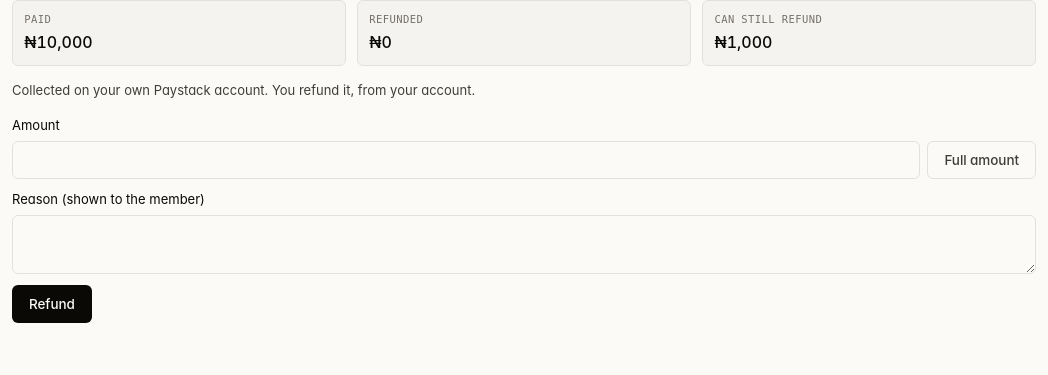
Test: ChargeRefundPanel › never sends more than is left
This screenshot has width=1048, height=375.
Type "5000" into the field named "Refund amount".
click(466, 160); type("5000")  # box 12,141 -> 920,179
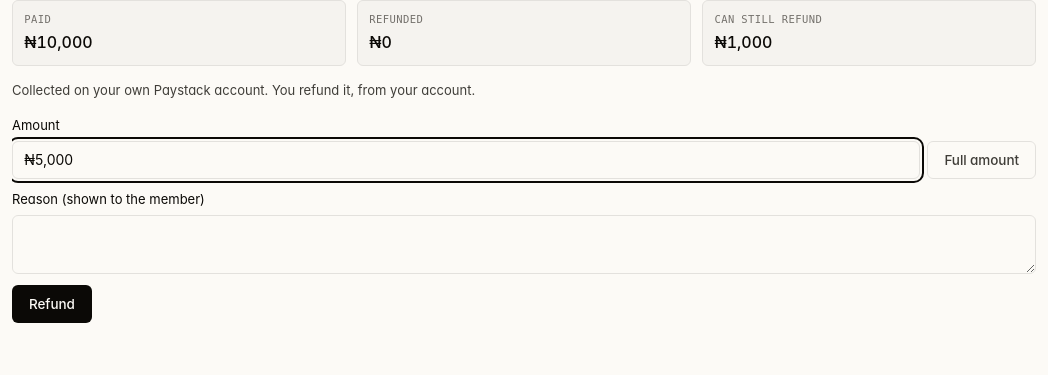
Click the button "Refund".
click(52, 304)  # box 12,285 -> 92,323
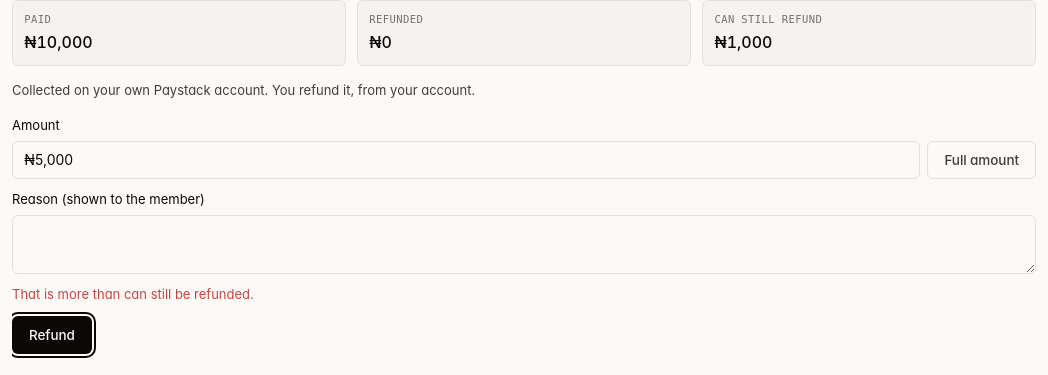
expect the message shows "more than": met, box 12,286 -> 254,302
